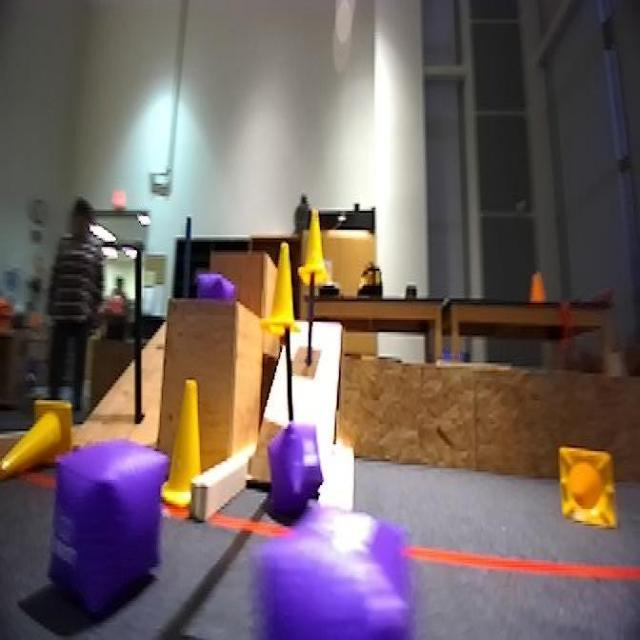frc_cone: (8, 397, 72, 492), (168, 371, 208, 514), (557, 444, 618, 530), (263, 235, 301, 335), (302, 210, 327, 290)
frc_cube: (243, 504, 411, 640), (44, 431, 148, 611), (265, 422, 321, 523), (192, 272, 228, 308)
